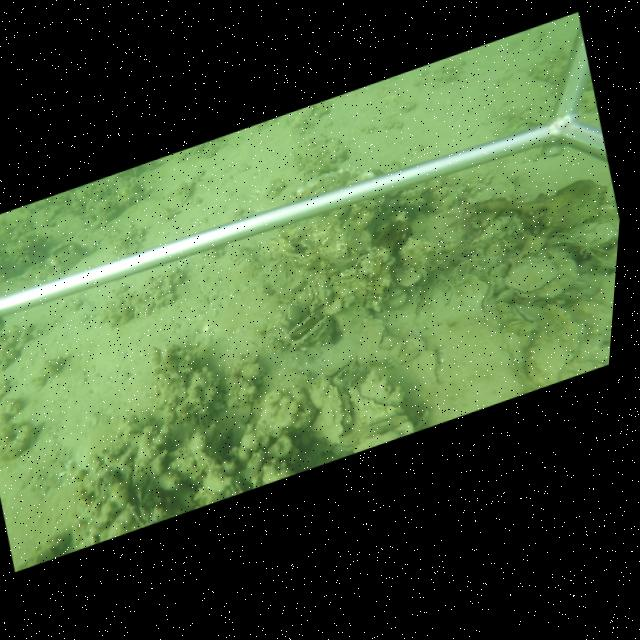Oyster-Closed: (506, 252, 560, 297), (349, 388, 401, 431), (310, 385, 344, 445), (359, 322, 389, 364), (416, 349, 441, 384), (393, 265, 421, 288), (397, 343, 423, 365), (386, 337, 407, 364), (492, 289, 515, 304), (501, 319, 527, 331), (489, 264, 509, 276)
Oyster-Indeterminate: (524, 315, 587, 386), (318, 280, 332, 307)
Oyster-Open: (464, 262, 496, 320), (288, 312, 329, 347), (126, 488, 150, 525), (321, 354, 352, 382), (510, 303, 543, 325)
